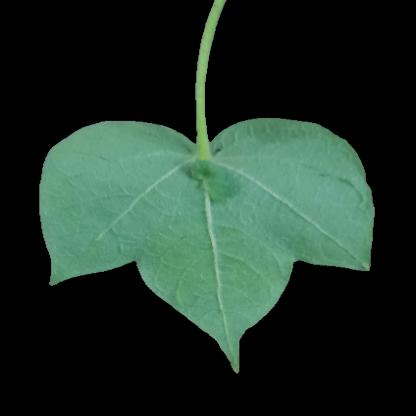curl_stage2: (51, 134, 146, 270), (283, 152, 353, 261), (162, 232, 276, 292), (182, 296, 260, 328)
leaf_enation: (149, 155, 277, 217)
